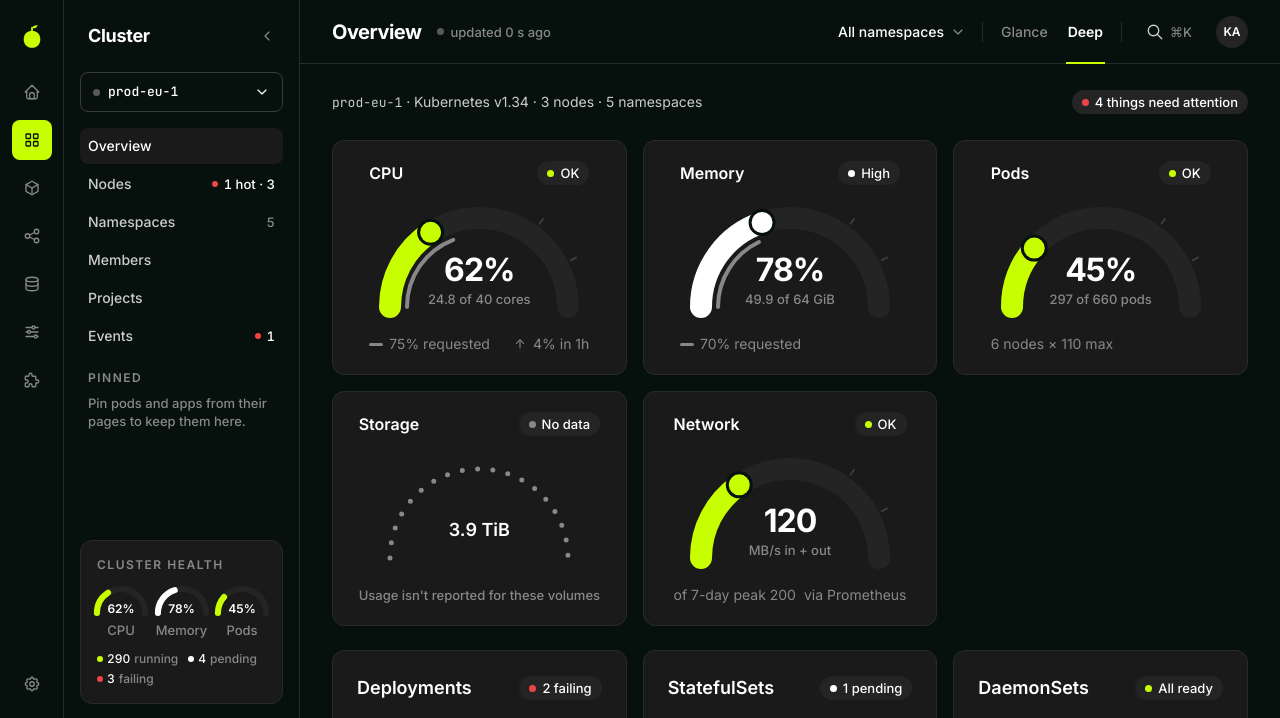
Test: search across clusters › looks in the namespaces picked for a cluster
Type keys "{Meta>}k{/Meta}"
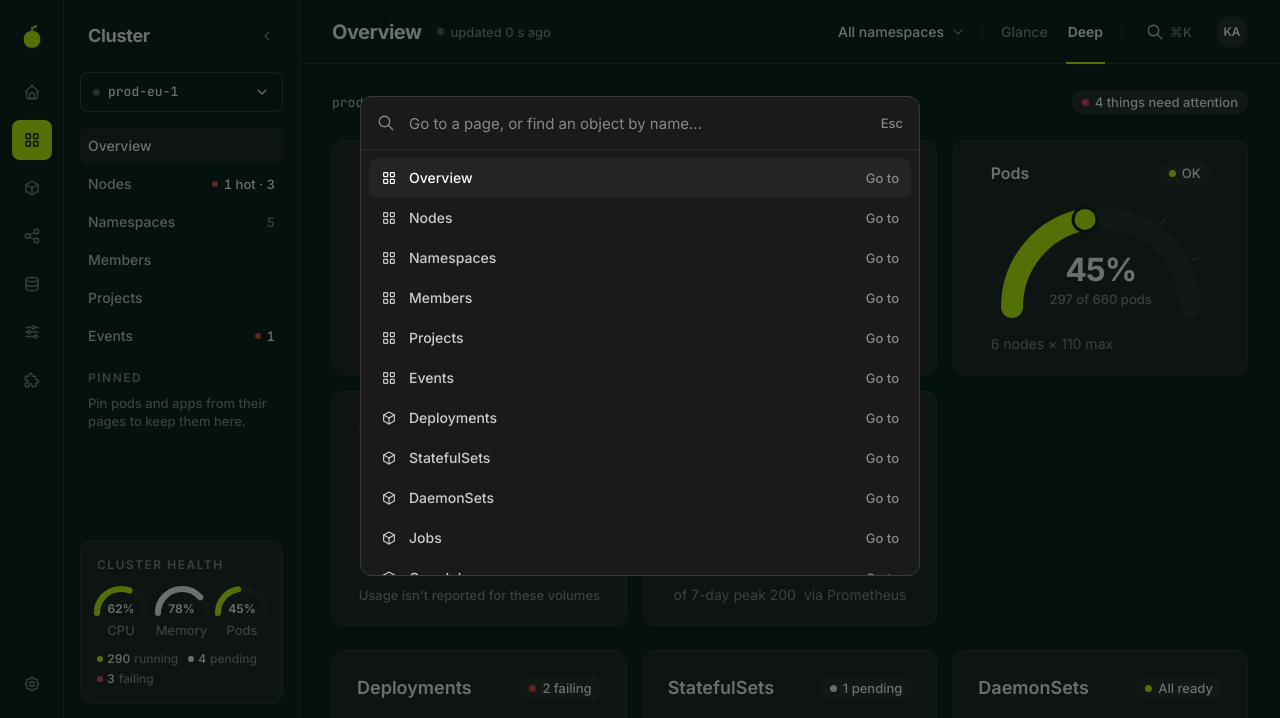
Type "payments-db" into the dropdown named "Search pages, commands and objects" at (638, 123), box [407,97,869,149]
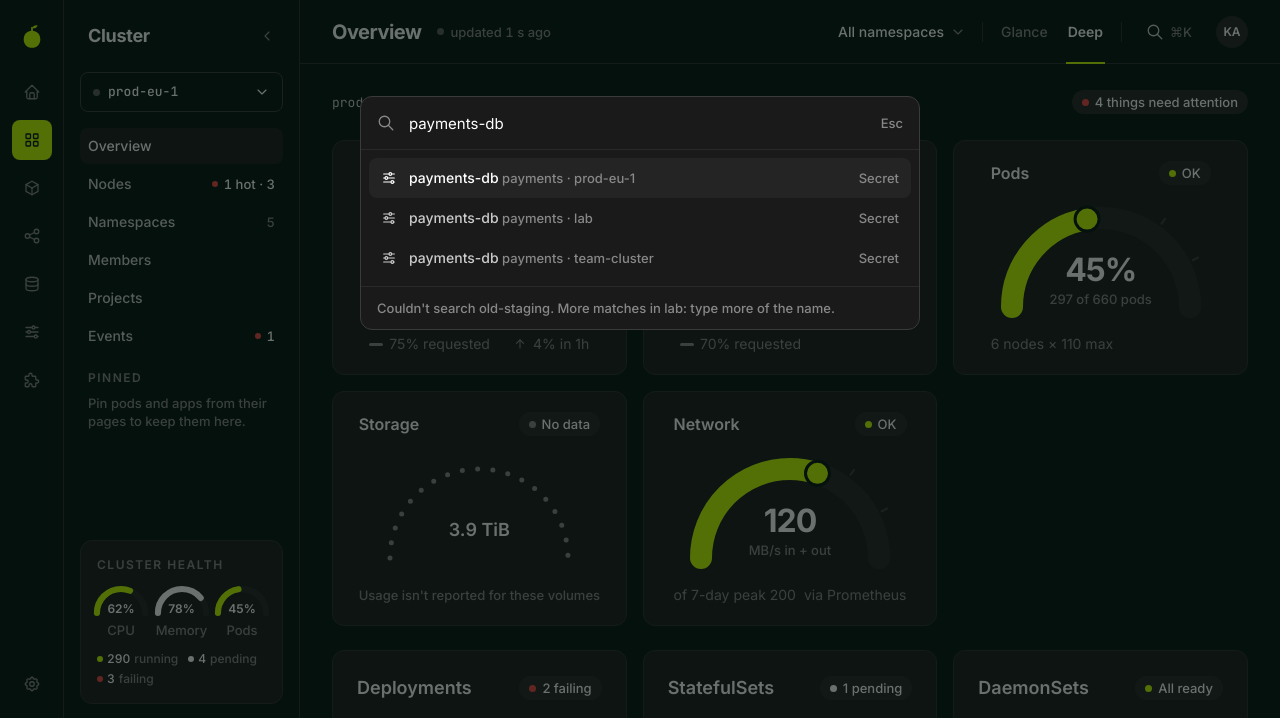
Now the option with aria-label "payments-db, payments · team-cluster, Secret" is shown, box [381,249,899,266]
